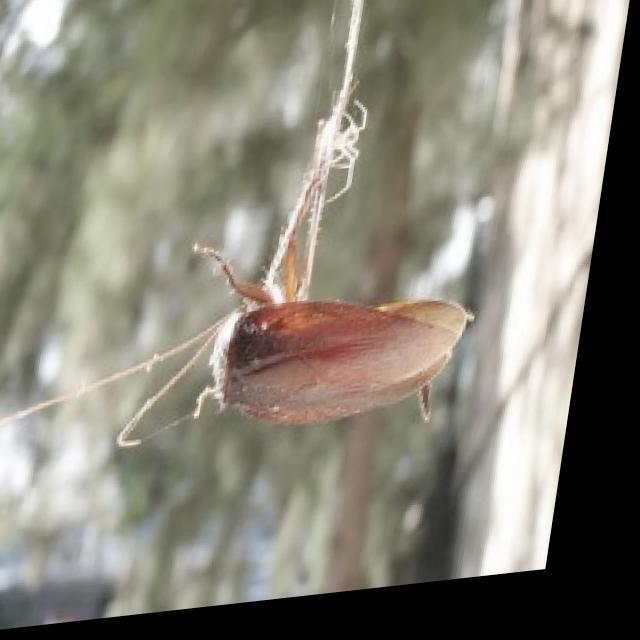cockroach: (209, 293, 475, 429)
